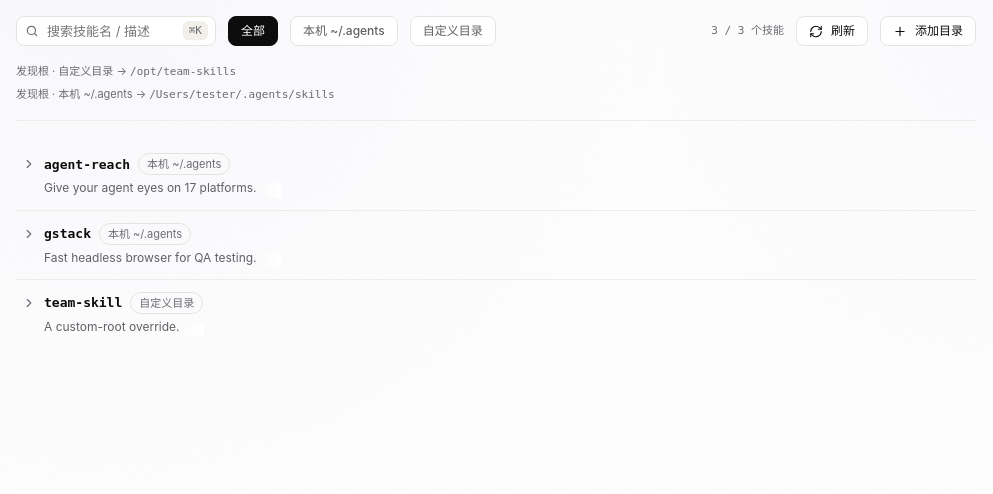
SkillsView › expands a row and lazily fetches the full body
This screenshot has width=993, height=494.
Click the text "agent-reach".
click(87, 164)  # box [44,154,130,175]
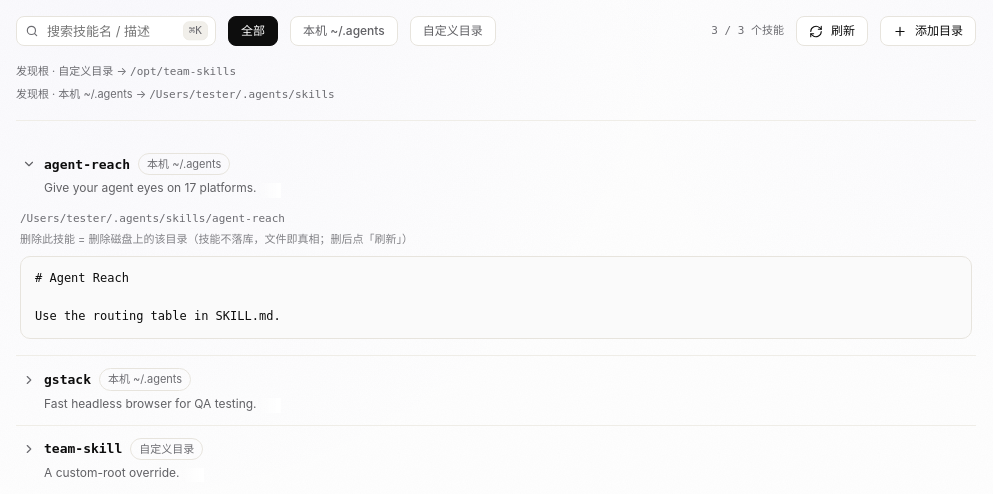
Now the text "# Agent Reach Use the routing table in SKILL.md." is shown, box [20,256,972,340]
Now the text "/Users/tester/.agents/skills/agent-reach" is shown, box [20,212,285,225]
Now the text "删除此技能 = 删除磁盘上的该目录（技能不落库，文件即真相；删后点「刷新」）" is shown, box [20,232,413,246]
